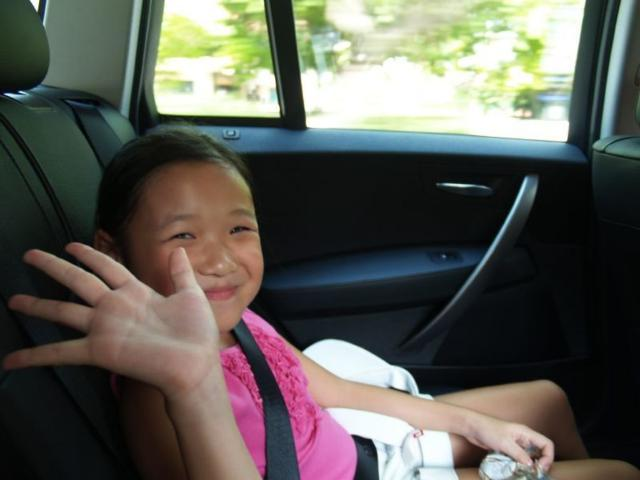SafeDriving: (158, 218, 206, 249), (220, 212, 260, 243)
Seatbelt: (234, 314, 302, 478)
